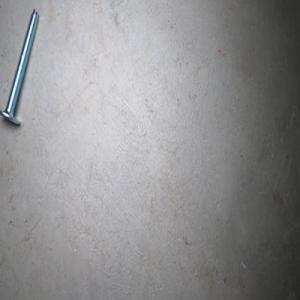Bolt: (0, 7, 39, 125)
